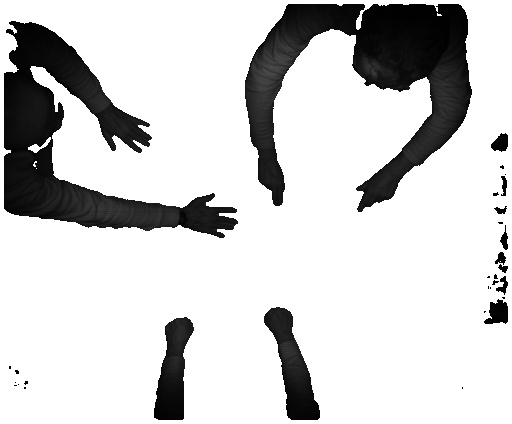fist: (264, 304, 303, 341), (160, 312, 199, 348)
hand: (182, 192, 239, 239), (100, 109, 151, 159), (352, 167, 400, 215), (257, 152, 287, 207)
